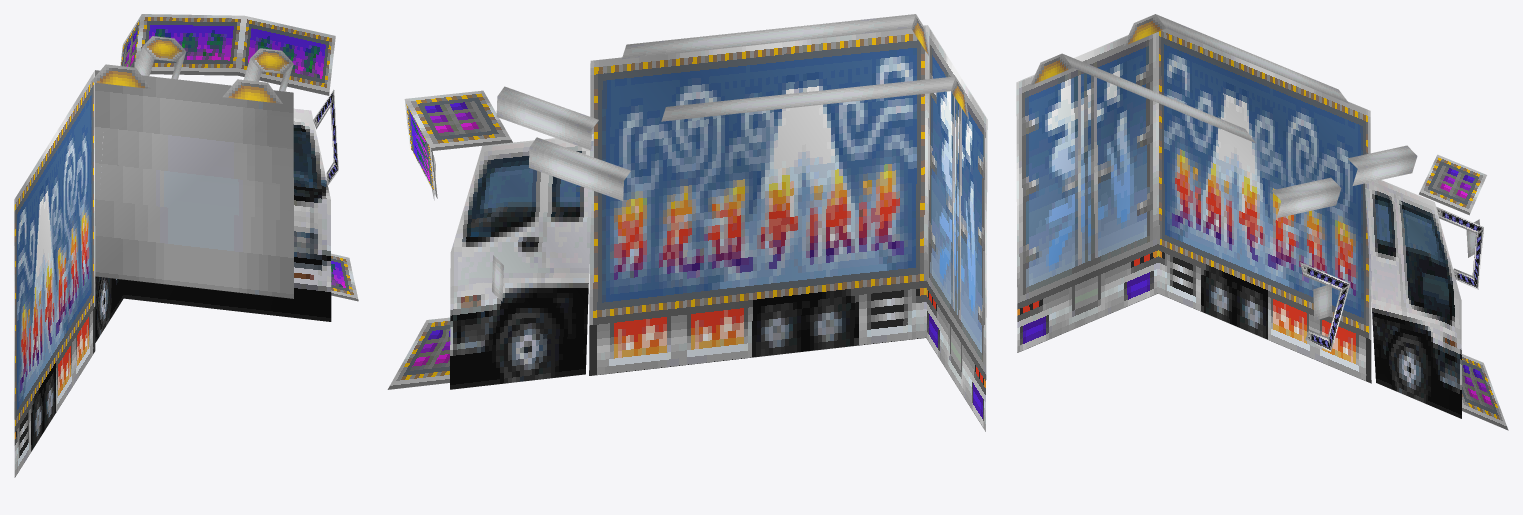
The model's file is ps2_save-icons_bakusouwekotoradensetsuotokohanamichiyumeroman.glb.
The picture shows the model from 3 angles, left to right: view 1: azimuth 30°, elevation 25°; view 2: azimuth 150°, elevation 25°; view 3: azimuth 270°, elevation 25°; orthographic projection. The views are drawn at different scales.
Parts seen in each view (by area): view 1: i0.ico; view 2: i0.ico; view 3: i0.ico.
Part boxes in pixels (left/top/right/bottom): i0.ico: left=14, top=14, right=358, bottom=477; i0.ico: left=387, top=14, right=987, bottom=431; i0.ico: left=1016, top=14, right=1508, bottom=430.
Size of the model in its own units: 3.19 by 2.08 by 3.19.
Materials: 1 (1 with a texture image).
